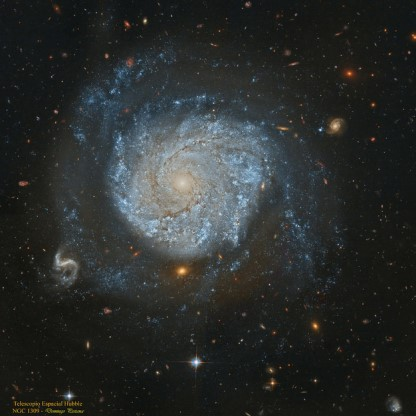NGC 1309: (33, 35, 356, 343)
